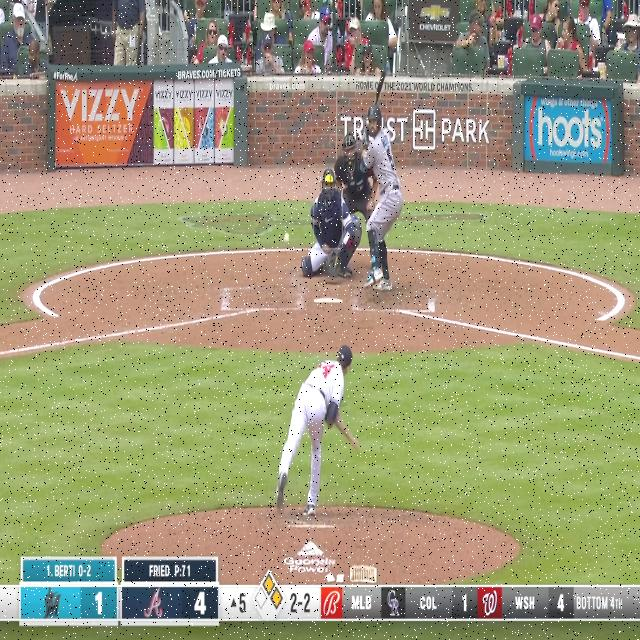baseball: (284, 233, 289, 243)
